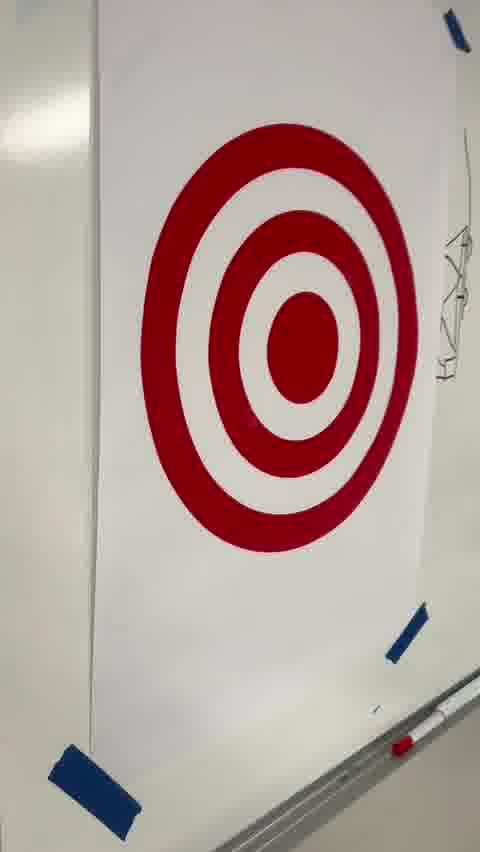target_red: (139, 120, 420, 555)
